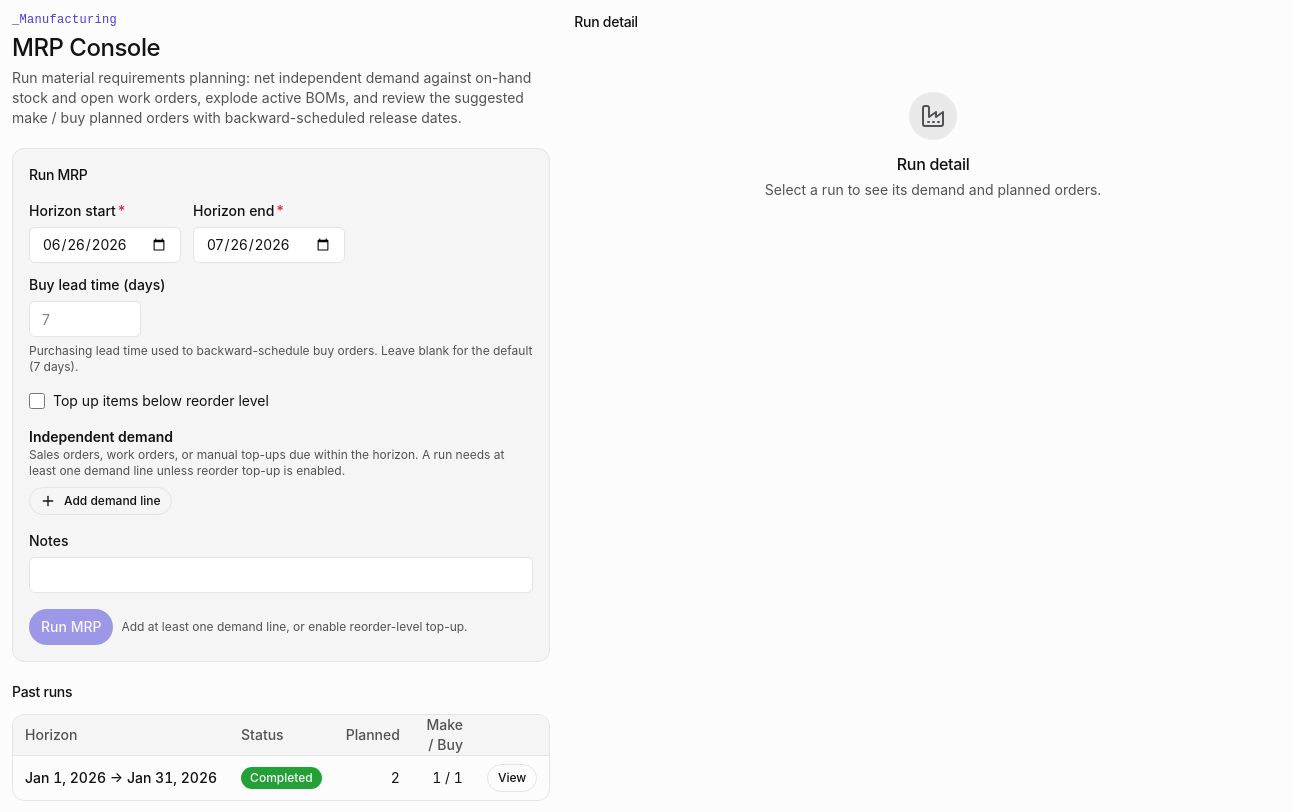
Test: MrpPage › drills into a run to show planned orders
Click the button with aria-label "View Jan 1, 2026" at point(512, 778), box top-left (487, 764), bottom-right (537, 792)
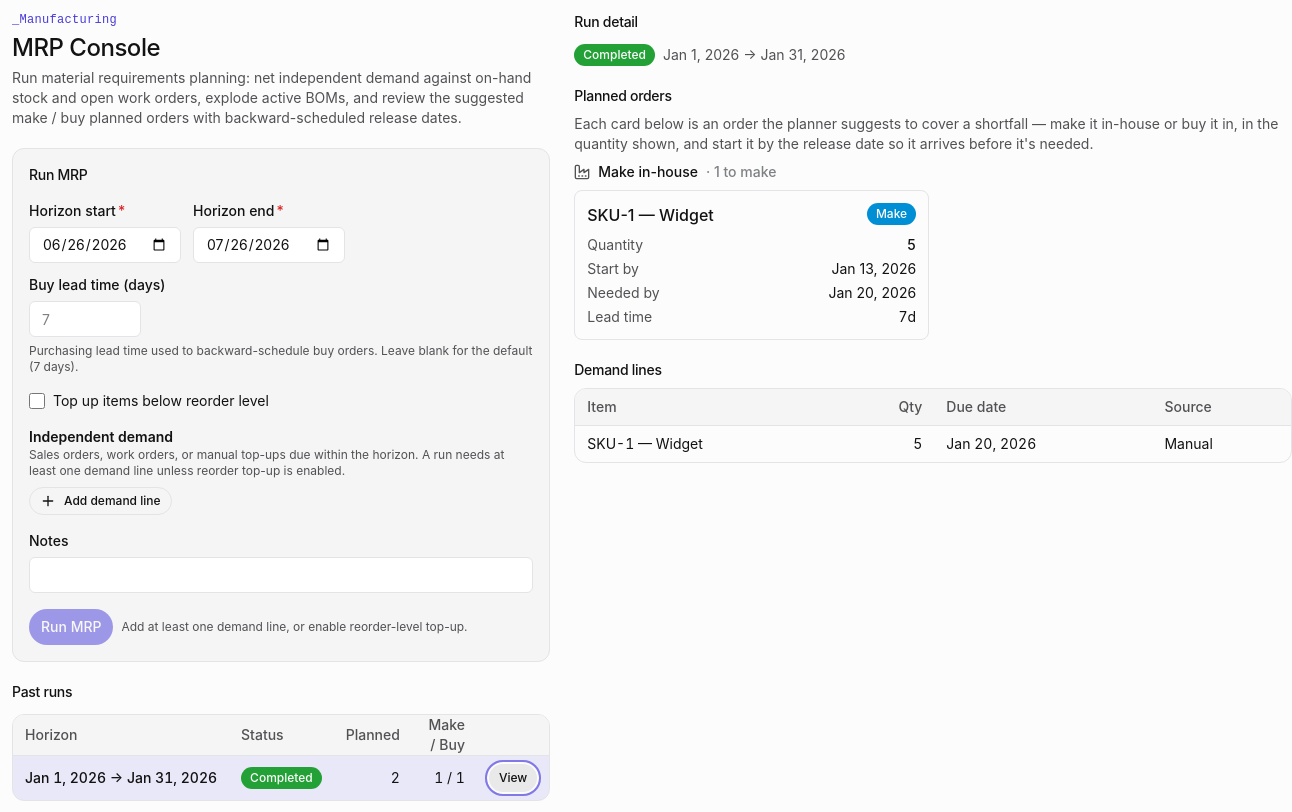
Expected: the text "Make" is shown, top-left (867, 203), bottom-right (916, 225)
Expected: the text "Jan 13, 2026" is shown, top-left (832, 260), bottom-right (916, 277)
Expected: the text "7d" is shown, top-left (898, 308), bottom-right (916, 325)
